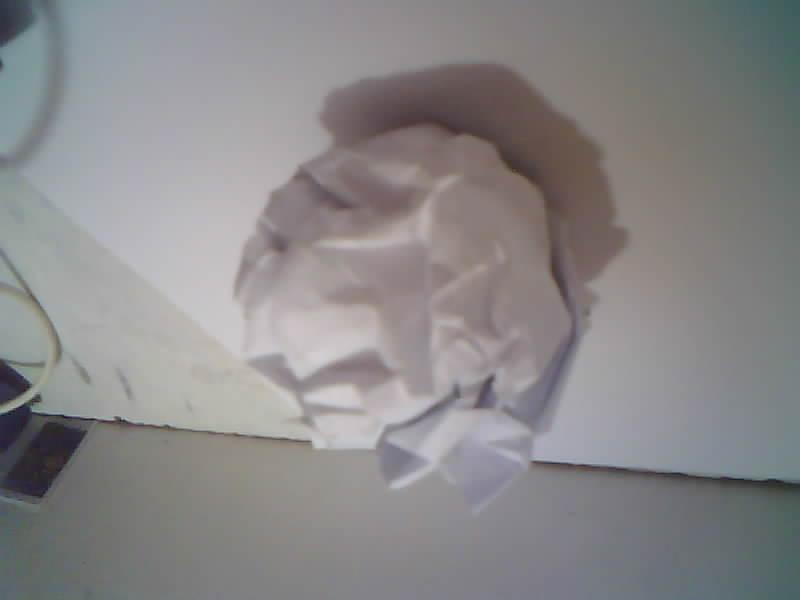biodegradable: (234, 124, 586, 511)
